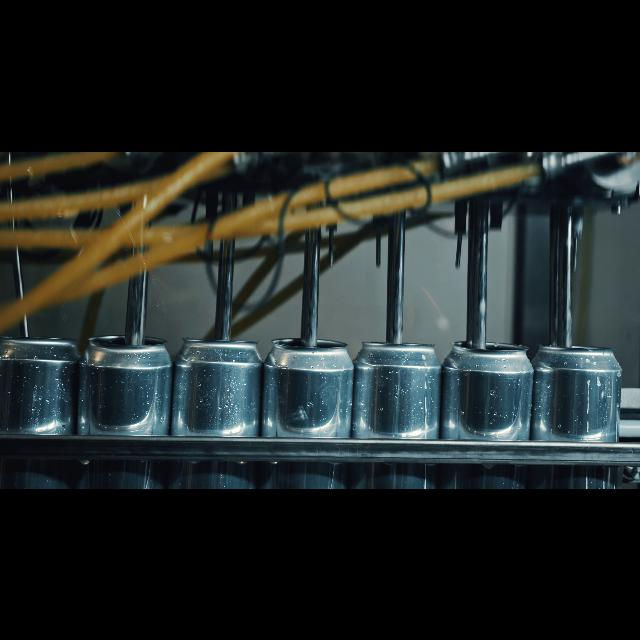empty: (86, 318, 174, 488), (179, 320, 263, 488), (271, 320, 355, 488), (448, 326, 534, 488), (540, 326, 622, 488), (362, 324, 442, 488), (5, 322, 80, 488)
